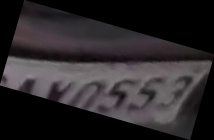character: (126, 76, 164, 111)
